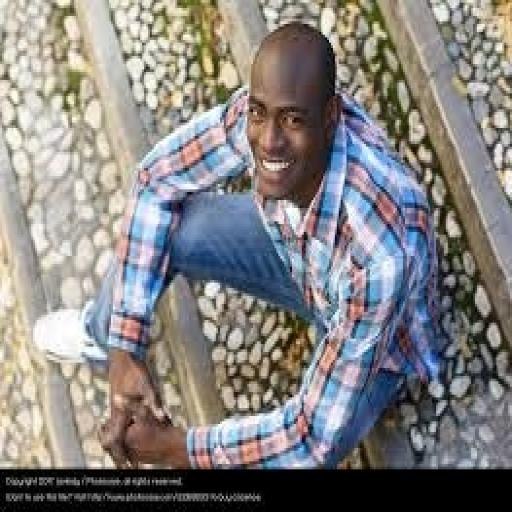sitting: (93, 18, 442, 466)
